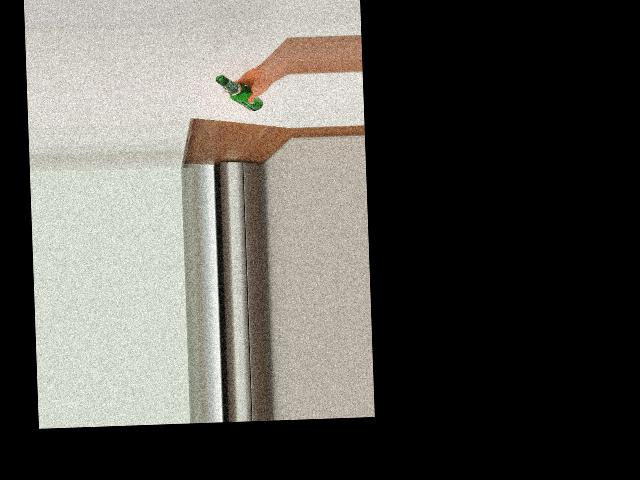beer: (215, 72, 263, 111)
